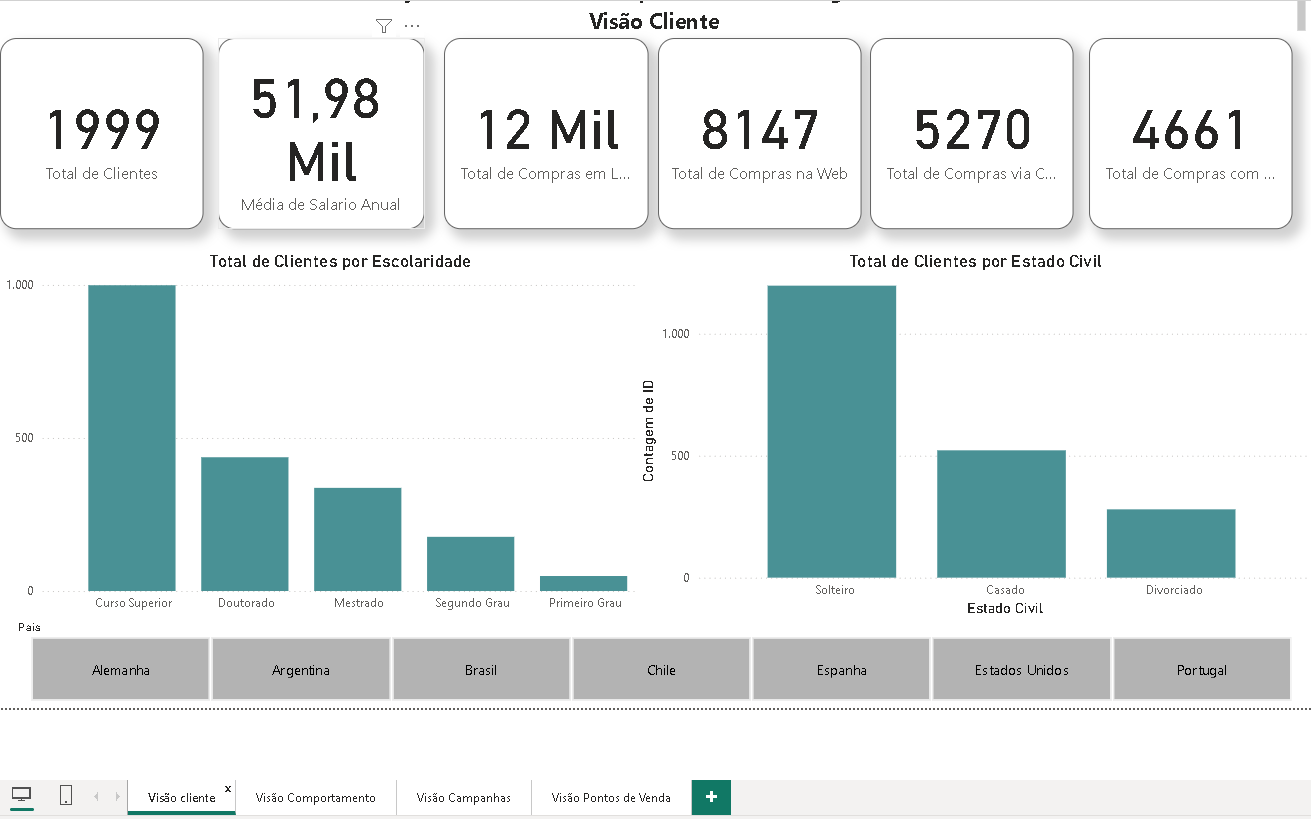

The page's visual inventory and layout, read from the dashboard file:
{"tool":"powerbi","page":{"name":"Visão cliente","canvas":[1280,720],"ordinal":0},"visuals":[{"type":"textbox","box":[4.9,0,1270.3,68.1],"z":0},{"type":"card","fields":{"Values":["CountNonNull(DadosMarketing.ID)"]},"box":[0,68.1,198.4,185.8],"z":1000},{"type":"card","fields":{"Values":["Avg(DadosMarketing.Salario Anual)"]},"box":[212,68.1,201.3,185.8],"z":2000},{"type":"card","fields":{"Values":["Sum(DadosMarketing.Numero de Compras na Loja)"]},"box":[431.9,68.1,199.4,185.8],"z":3000},{"type":"card","fields":{"Values":["Sum(DadosMarketing.Numero de Compras na Web)"]},"box":[640,68.1,198.4,185.8],"z":4000},{"type":"card","fields":{"Values":["Sum(DadosMarketing.Numero de Compras via Catalogo)"]},"box":[846.2,68.1,198.4,185.8],"z":5000},{"type":"card","fields":{"Values":["Sum(DadosMarketing.Numero de Compras com Desconto)"]},"box":[1059.2,68.1,198.4,185.8],"z":6000},{"type":"clusteredColumnChart","title":"Total de Clientes por Escolaridade","fields":{"Category":["DadosMarketing.Escolaridade"],"Y":["CountNonNull(DadosMarketing.ID)"]},"box":[0,275.3,662.4,359.9],"z":7000},{"type":"clusteredColumnChart","title":"Total de Clientes por Estado Civil","fields":{"Category":["DadosMarketing.Estado Civil"],"Y":["CountNonNull(DadosMarketing.ID)"]},"box":[617.6,275.3,662.4,359.9],"z":8000},{"type":"slicer","fields":{"Values":["DadosMarketing.Pais"]},"box":[4.9,630.3,1275.1,89.5],"z":9000}]}

Visuals, with their boxes on the page's 1280x720 design canvas (x1, y1, x2, y2). These are canvas units, not pixel positions in the 1311x819 screenshot, which may show the page scaled, cropped or inside an application window:
textbox: bbox=[5, 0, 1275, 68]
card - CountNonNull(DadosMarketing.ID): bbox=[0, 68, 198, 254]
card - Avg(DadosMarketing.Salario Anual): bbox=[212, 68, 413, 254]
card - Sum(DadosMarketing.Numero de Compras na Loja): bbox=[432, 68, 631, 254]
card - Sum(DadosMarketing.Numero de Compras na Web): bbox=[640, 68, 838, 254]
card - Sum(DadosMarketing.Numero de Compras via Catalogo): bbox=[846, 68, 1045, 254]
card - Sum(DadosMarketing.Numero de Compras com Desconto): bbox=[1059, 68, 1258, 254]
"Total de Clientes por Escolaridade" clusteredColumnChart: bbox=[0, 275, 662, 635]
"Total de Clientes por Estado Civil" clusteredColumnChart: bbox=[618, 275, 1280, 635]
slicer - DadosMarketing.Pais: bbox=[5, 630, 1280, 720]
